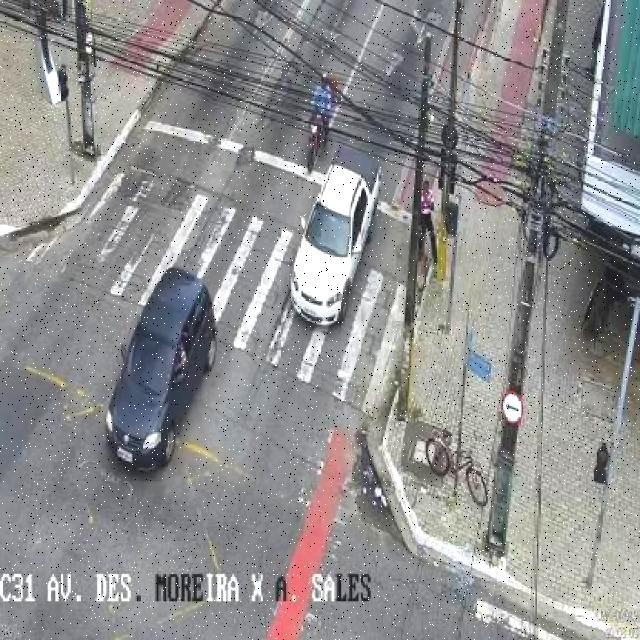Car: (91, 258, 220, 483), (283, 167, 375, 337)
Cycle: (289, 68, 348, 171)
